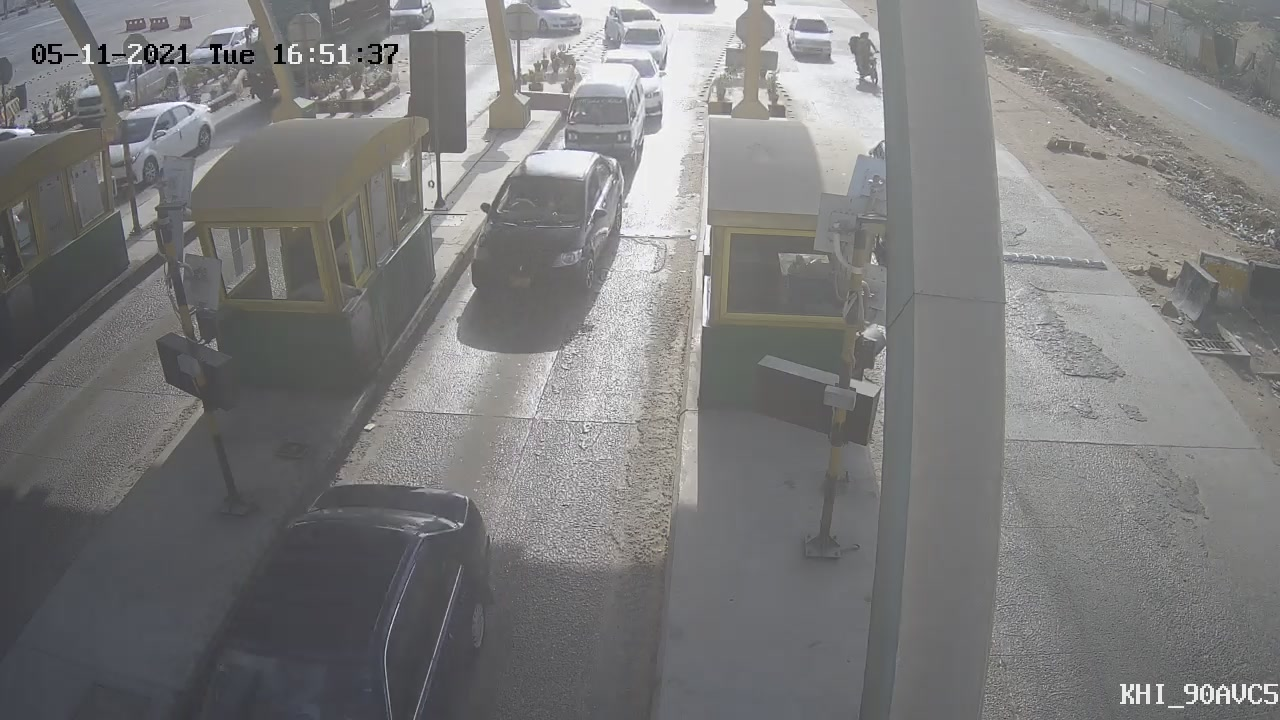F1: (450, 135, 644, 329), (550, 57, 661, 185)
